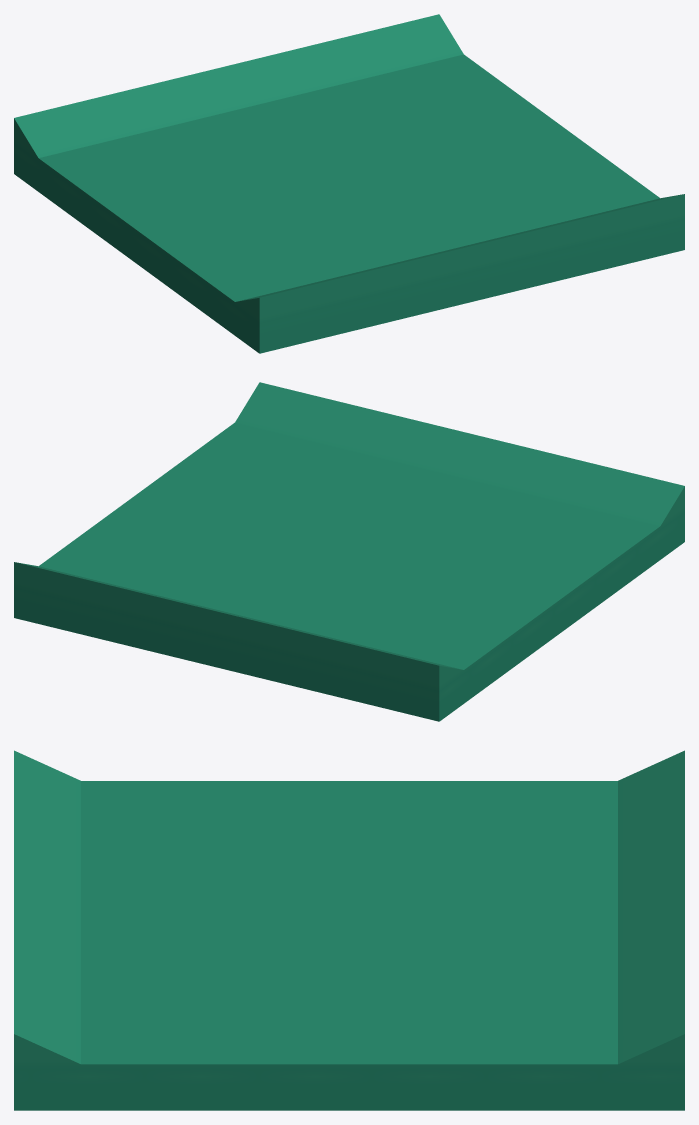
The model's file is roofFlat.fbx.
The picture shows the model from 3 angles, top to bottom: view 1: azimuth 30°, elevation 25°; view 2: azimuth 150°, elevation 25°; view 3: azimuth 270°, elevation 25°; orthographic projection. The views are drawn at different scales.
Parts seen in each view (by area): view 1: roofFlat; view 2: roofFlat; view 3: roofFlat.
Part boxes in pixels (x1,y1,x2,y2): roofFlat: [14, 14, 684, 353]; roofFlat: [14, 382, 684, 721]; roofFlat: [14, 750, 684, 1110].
Bounding box in the file's own units: 1 × 1 × 0.1259.
